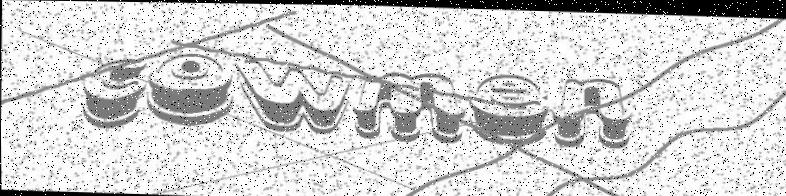c: (80, 55, 146, 129)
e: (467, 70, 548, 144)
m: (351, 68, 464, 141)
n: (552, 73, 632, 147)
o: (146, 50, 234, 127)
w: (234, 56, 350, 134)
